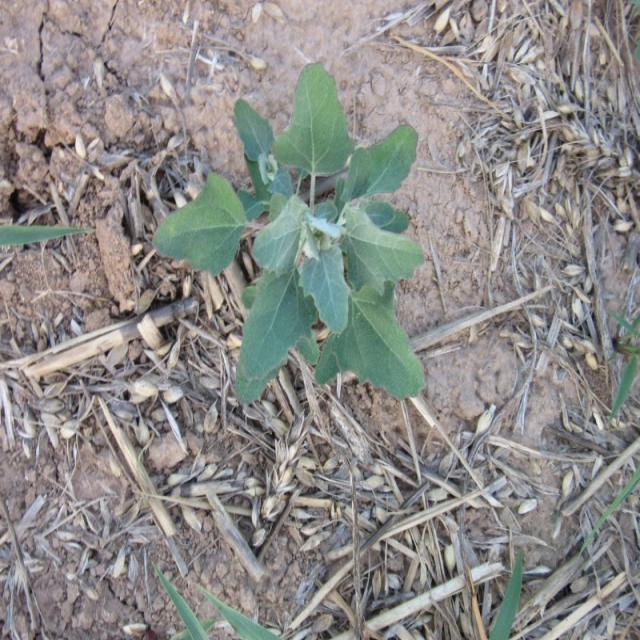ca: (156, 64, 427, 404)
